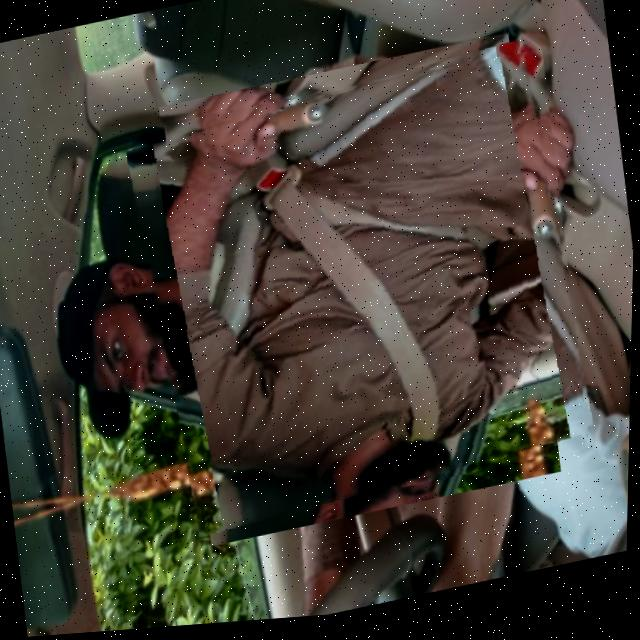seatbelt: (124, 47, 599, 541)
